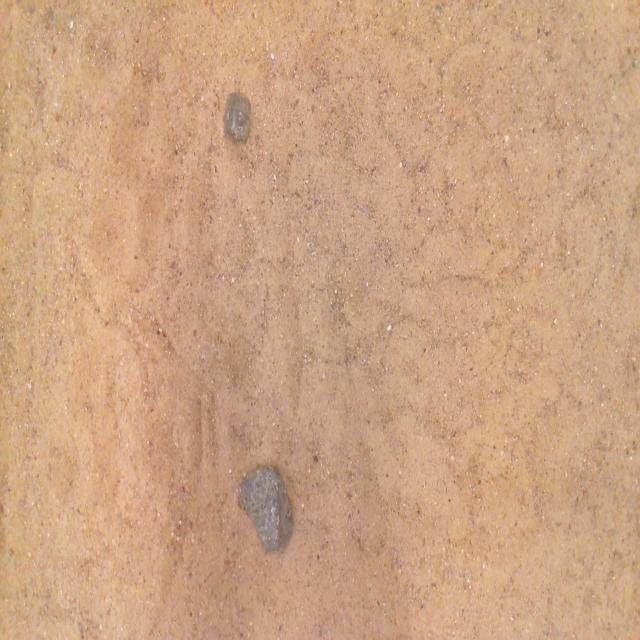rock: (240, 467, 293, 552), (224, 92, 250, 142)
